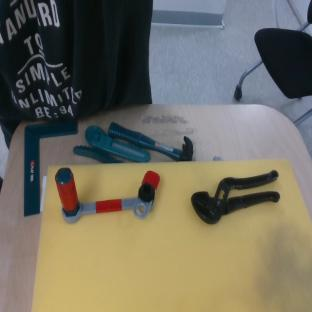pass: (54, 168, 160, 224)
